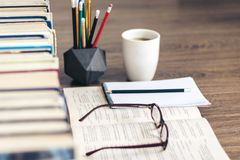Open Book: (65, 84, 230, 160)
